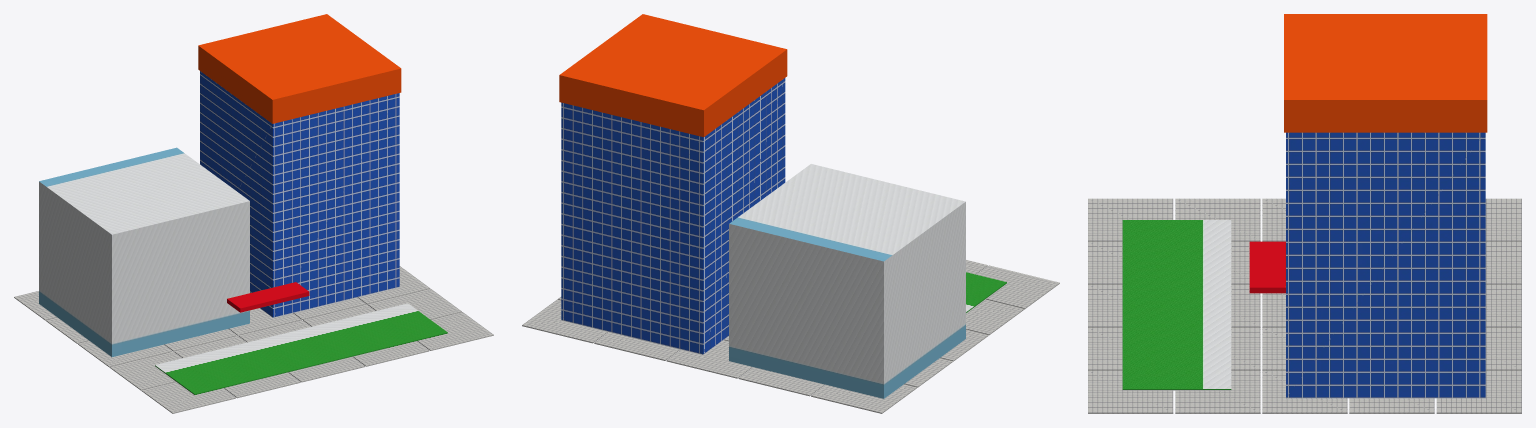
3 renders of one model, left to right at view 1: azimuth 30°, elevation 25°; view 2: azimuth 150°, elevation 25°; view 3: azimuth 270°, elevation 25°, orthographic. The views are drawn at different scales.
Visible parts, largest first — view 1: 28185_B32_SK_bioscience_Global_RPD_Center; view 2: 28185_B32_SK_bioscience_Global_RPD_Center; view 3: 28185_B32_SK_bioscience_Global_RPD_Center.
Boxes of the visible parts, x1=… form: 28185_B32_SK_bioscience_Global_RPD_Center: x1=14, y1=14, x2=493, y2=413; 28185_B32_SK_bioscience_Global_RPD_Center: x1=522, y1=14, x2=1059, y2=413; 28185_B32_SK_bioscience_Global_RPD_Center: x1=1088, y1=14, x2=1521, y2=413.
Size of the model in its own units: 55.8 by 36.5 by 47.8.
1 material, 1 textured.
